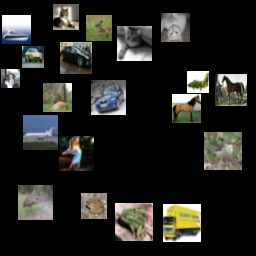airplane: (23, 115, 58, 150), (187, 71, 209, 93)
automobile: (91, 80, 126, 115), (60, 42, 92, 74), (22, 46, 44, 68)
bird: (204, 132, 242, 170), (59, 136, 94, 171), (18, 185, 53, 220)
cat: (117, 26, 152, 61), (161, 13, 190, 42), (53, 4, 79, 30)
deer: (43, 83, 72, 112), (86, 15, 112, 41)
dog: (1, 69, 20, 88)
frog: (115, 203, 153, 241), (81, 193, 107, 219)
ship: (2, 15, 31, 44)
